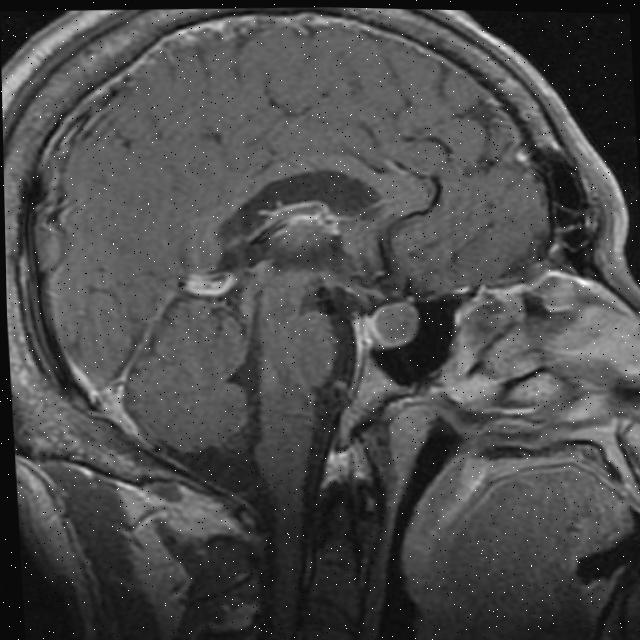Pituitary: (368, 300, 421, 349)
